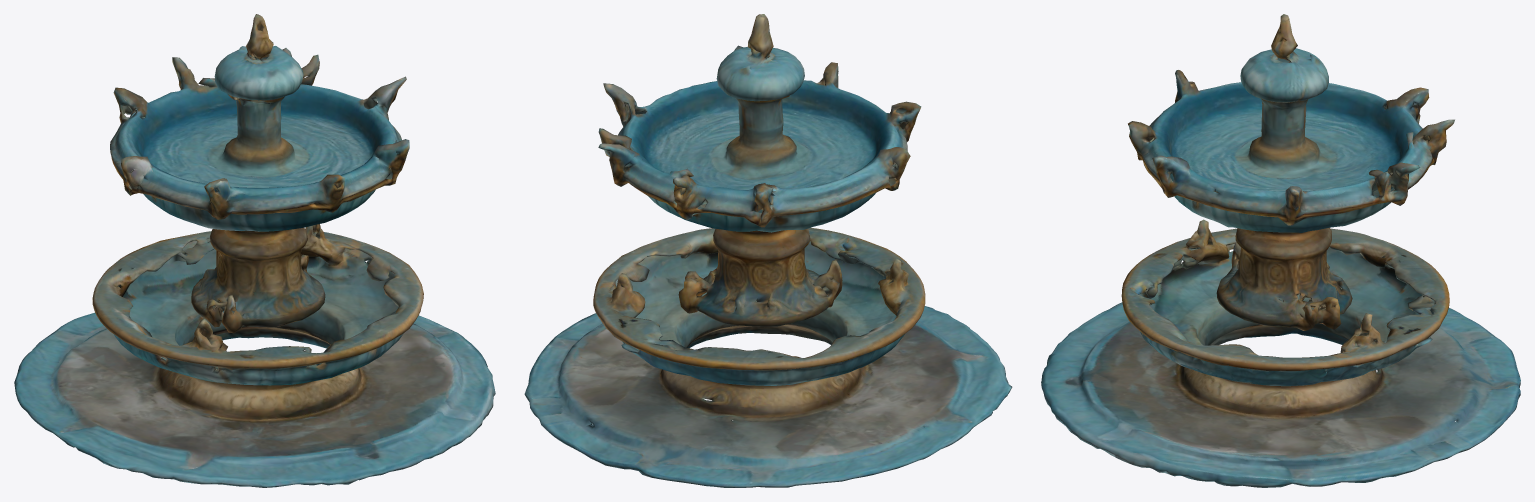
Rendered from product_124.glb.
3 views of the same model, side by side, from view 1: azimuth 30°, elevation 25°; view 2: azimuth 150°, elevation 25°; view 3: azimuth 270°, elevation 25° (orthographic).
Size of the model in its own units: 1.98 by 1.73 by 2.
Materials: 1 (1 with a texture image).
